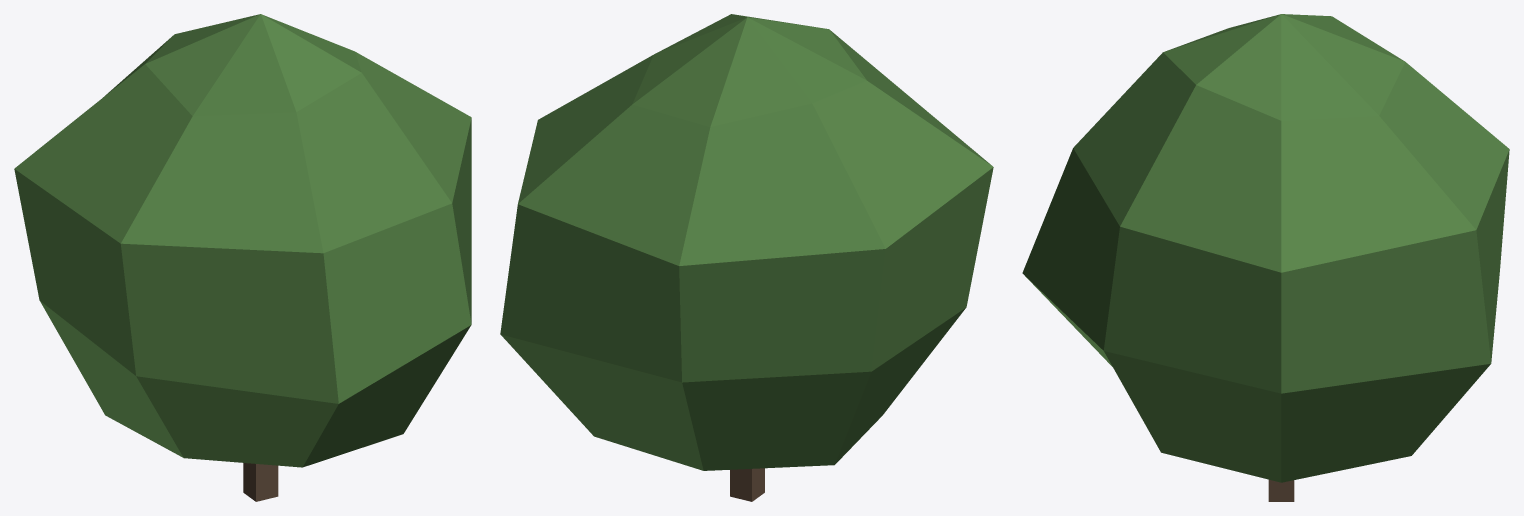
The model's file is copa_1.glb.
3 views of the same model, side by side, from view 1: azimuth 30°, elevation 25°; view 2: azimuth 150°, elevation 25°; view 3: azimuth 270°, elevation 25° (orthographic).
Parts seen in each view (by area): view 1: a, tr; view 2: a, tr; view 3: a, tr.
Part boxes in pixels (bbox=[...]): a: bbox=[14, 14, 471, 467]; tr: bbox=[243, 463, 278, 501]; a: bbox=[500, 14, 993, 470]; tr: bbox=[730, 468, 764, 501]; a: bbox=[1022, 14, 1509, 482]; tr: bbox=[1268, 479, 1294, 501].
Size of the model in its own units: 9.07 by 10.28 by 9.41.
